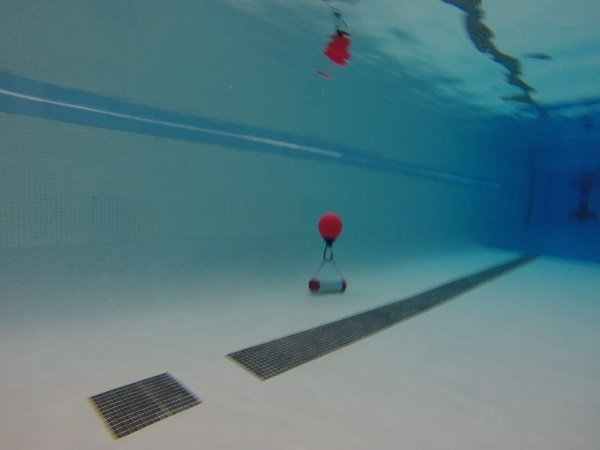buoy_red: (317, 212, 344, 245)
